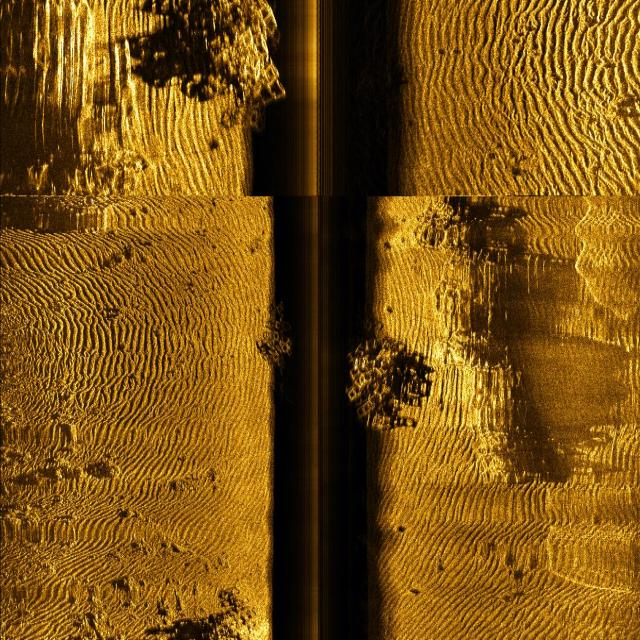artificial reef: (168, 0, 291, 123), (340, 314, 414, 444), (257, 284, 298, 375)
